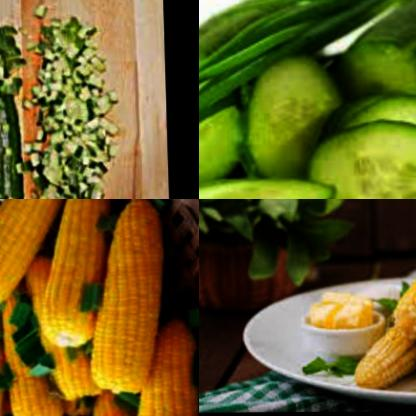corn: (77, 199, 170, 396), (33, 199, 108, 367), (122, 313, 198, 416), (0, 199, 75, 300), (0, 293, 56, 416), (347, 303, 416, 385), (393, 236, 416, 341)
cucumber: (199, 31, 416, 199), (25, 10, 130, 199), (329, 0, 416, 110), (0, 16, 25, 199)
